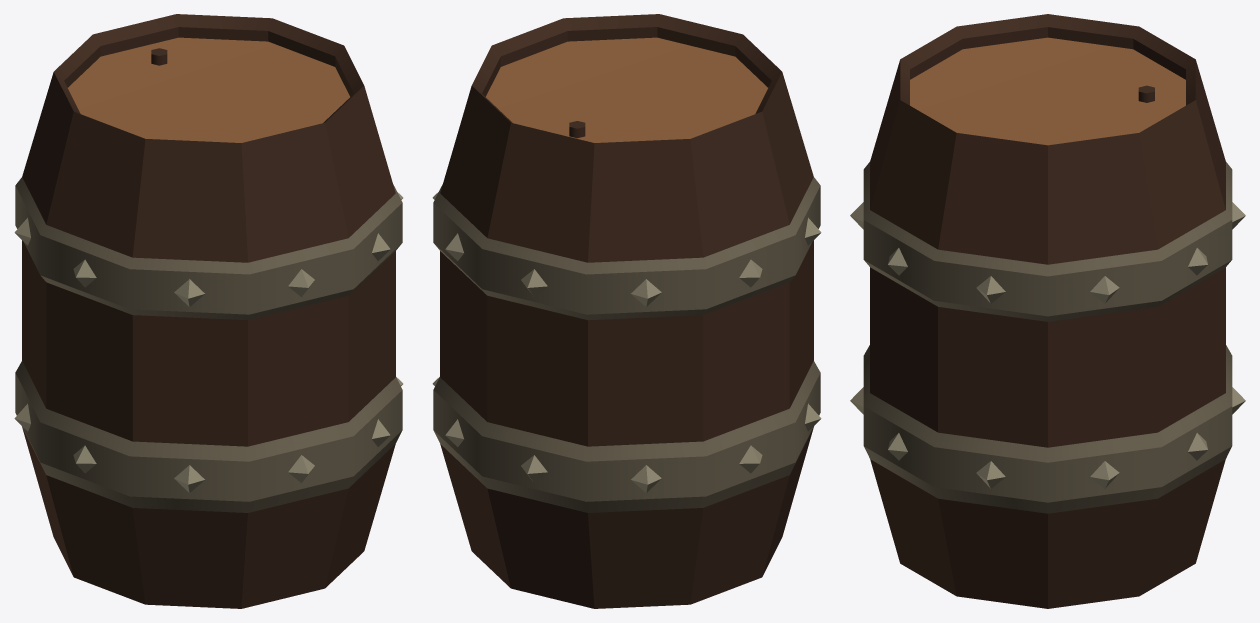
Rendered from SM_Wooden Barrel.fbx.
3 renders of one model, left to right at view 1: azimuth 30°, elevation 25°; view 2: azimuth 150°, elevation 25°; view 3: azimuth 270°, elevation 25°, orthographic.
Visible parts, largest first — view 1: SM_Wooden_Barrel1; view 2: SM_Wooden_Barrel1; view 3: SM_Wooden_Barrel1.
Part boxes in pixels (x1,y1,x2,y2): SM_Wooden_Barrel1: [14, 14, 403, 608]; SM_Wooden_Barrel1: [432, 14, 821, 608]; SM_Wooden_Barrel1: [850, 14, 1245, 608].
Size of the model in its own units: 70.11 by 92.56 by 71.64.
